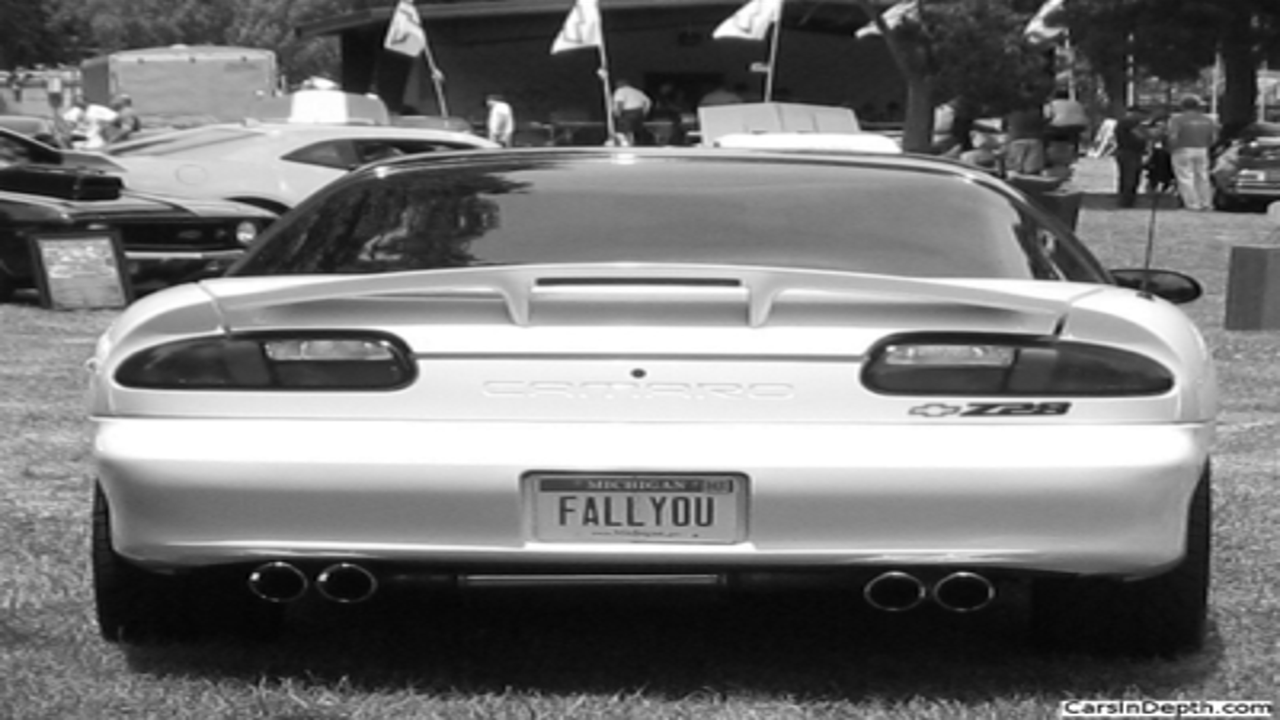license: (528, 468, 745, 550)
